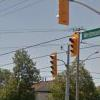Traffic light: (42, 32, 88, 77)
